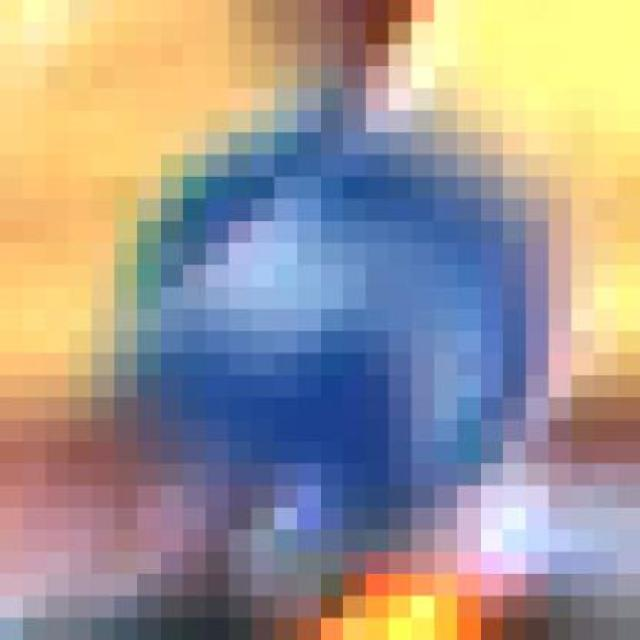Turn left ahead: (114, 110, 572, 596)
